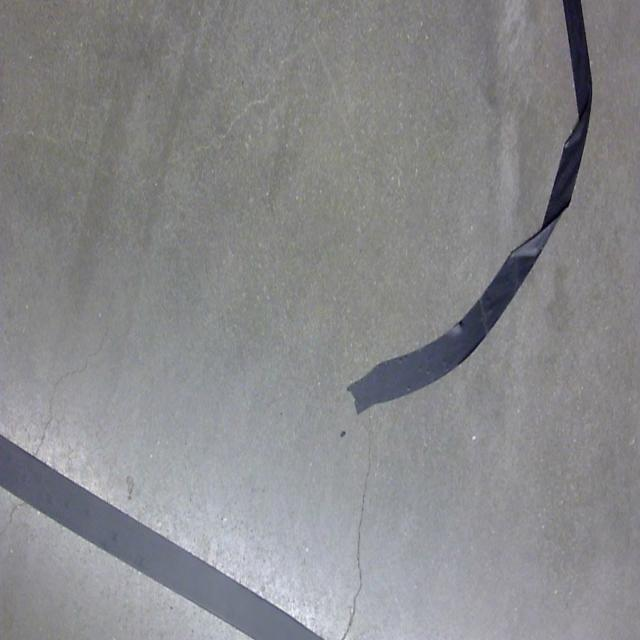tape: (325, 0, 604, 438), (0, 412, 356, 640)
